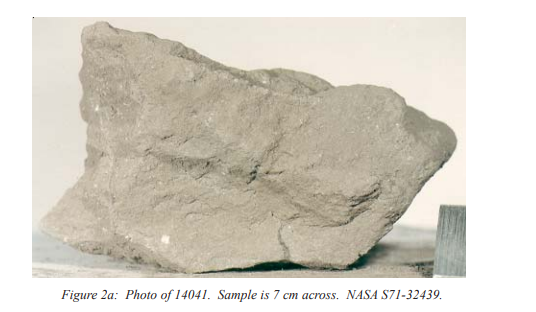Breccia: (62, 17, 454, 270), (247, 55, 453, 195), (168, 98, 369, 234)
